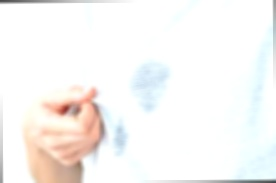oil: (128, 60, 165, 108), (102, 120, 135, 156)
